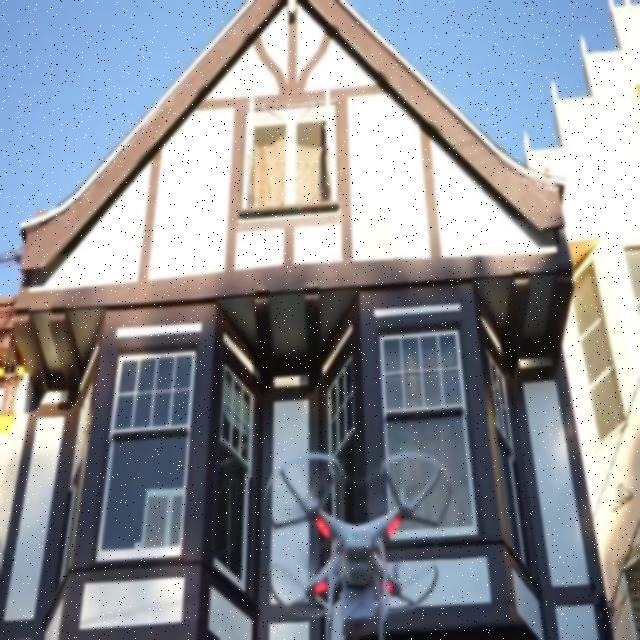UAV: (264, 452, 452, 640)
